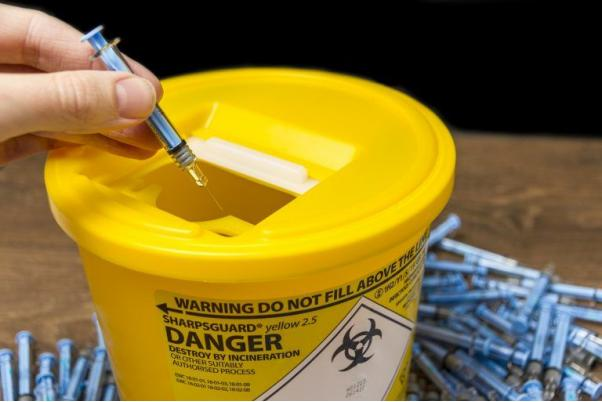Syringe: (81, 26, 132, 72)
